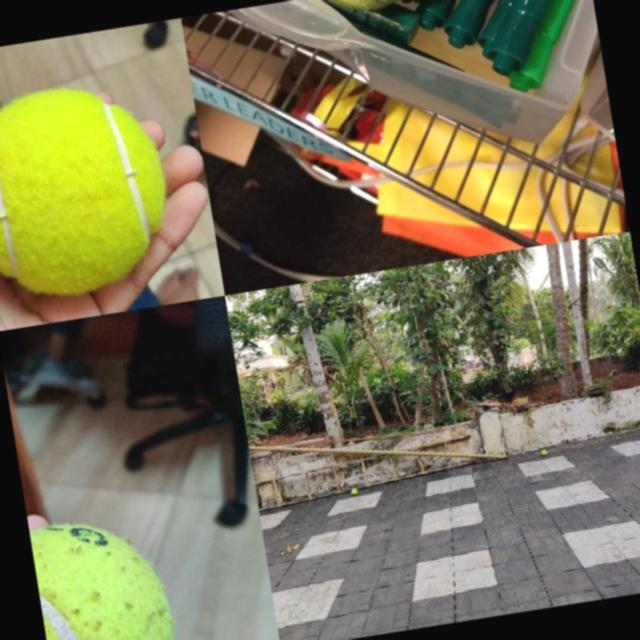tennis-ball: (0, 75, 178, 307), (29, 507, 181, 640), (351, 488, 358, 496), (540, 449, 547, 456)
